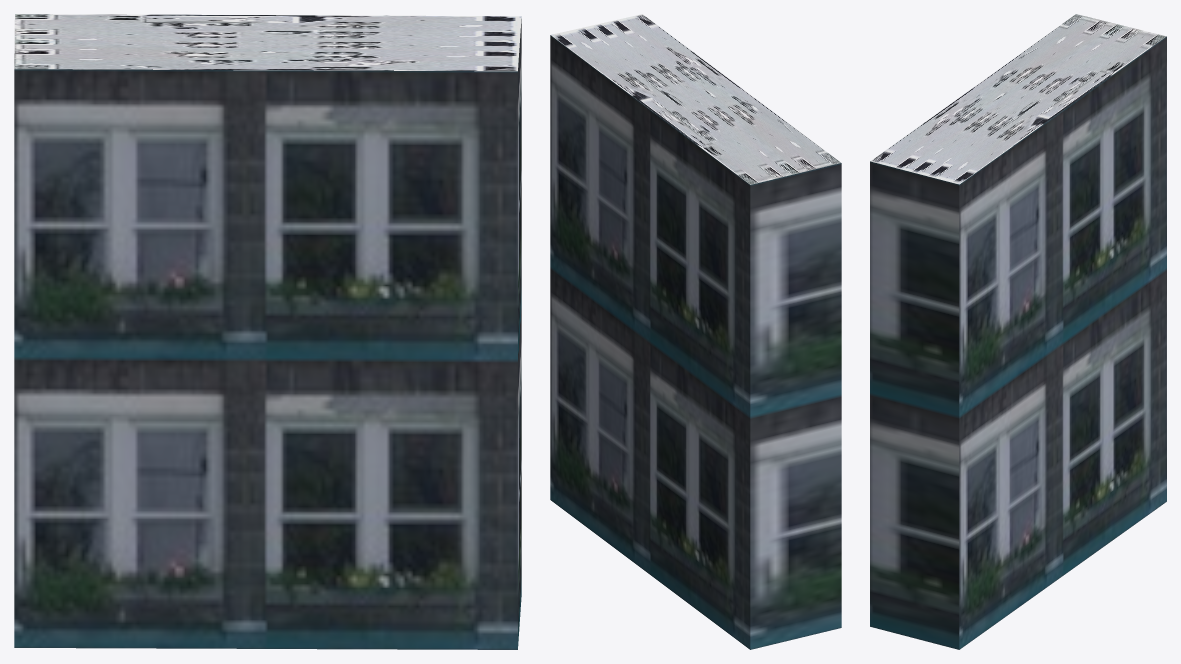
File: ResTex__3313.fbx
The picture shows the model from 3 angles, left to right: view 1: azimuth 30°, elevation 25°; view 2: azimuth 150°, elevation 25°; view 3: azimuth 270°, elevation 25°; orthographic projection. The views are drawn at different scales.
Visible parts, largest first — view 1: CityEngineMaterial_11_m, CityEngineMaterial_2_m; view 2: CityEngineMaterial_11_m, CityEngineMaterial_2_m; view 3: CityEngineMaterial_11_m, CityEngineMaterial_2_m.
Boxes of the visible parts, left/top/right/bottom form: CityEngineMaterial_11_m: left=14, top=19, right=521, bottom=649; CityEngineMaterial_2_m: left=14, top=14, right=521, bottom=71; CityEngineMaterial_11_m: left=550, top=35, right=841, bottom=649; CityEngineMaterial_2_m: left=551, top=14, right=840, bottom=184; CityEngineMaterial_11_m: left=870, top=36, right=1166, bottom=649; CityEngineMaterial_2_m: left=870, top=14, right=1166, bottom=184.
Bounding box in the file's own units: 4.72 × 6 × 3.47.
2 materials, 2 textured.
